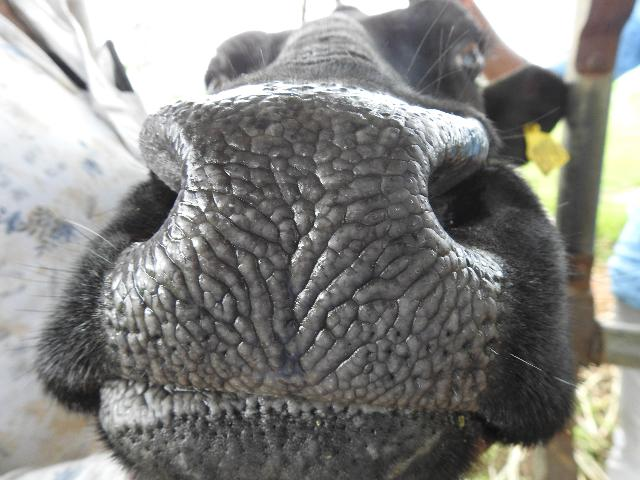Muzzle: (172, 101, 436, 410)
